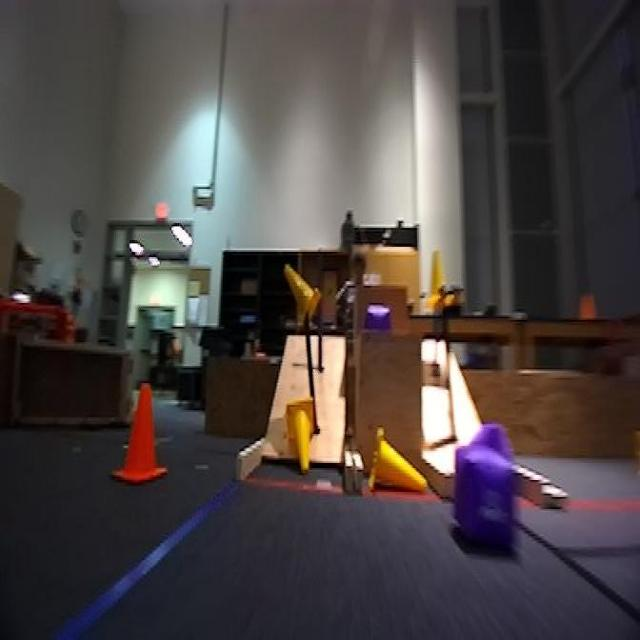frc_cone: (271, 252, 324, 335), (285, 393, 322, 482), (370, 434, 421, 494), (416, 245, 454, 315)
frc_cube: (453, 444, 520, 538), (470, 424, 518, 504), (364, 301, 394, 337)
